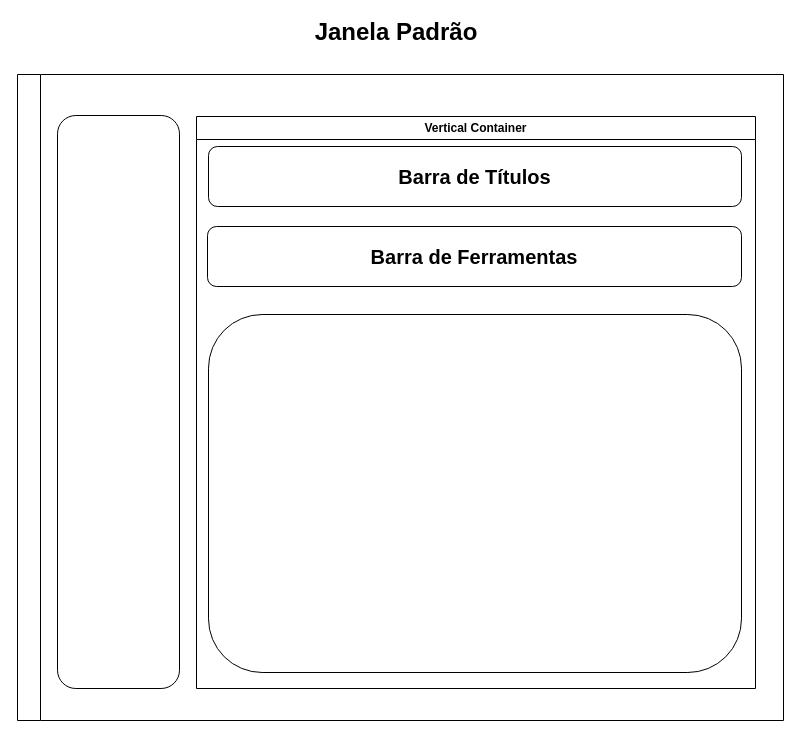
Some shapes in this 801 by 738 pixel diagram are drawn without their labels. The centre of each missing label's shape, as x and y in pixels:
"Children" goes at point (475, 493).
"Menu" goes at point (118, 401).
